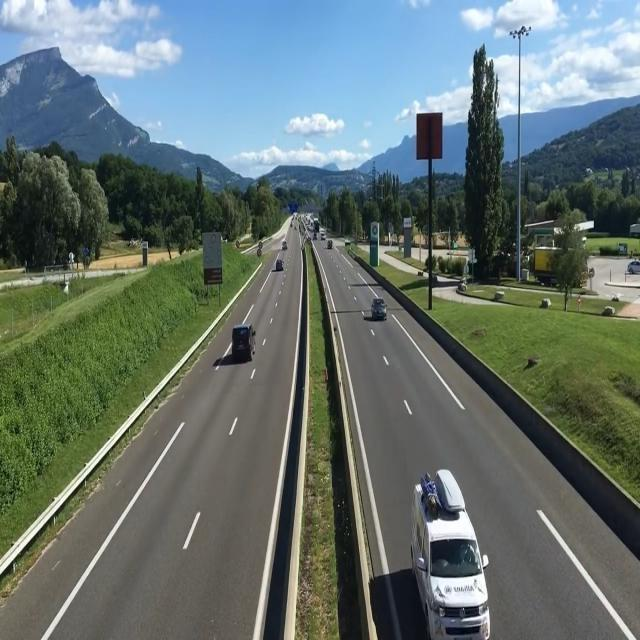Car: (372, 296, 388, 320), (275, 258, 284, 272)
Van: (412, 470, 490, 640), (230, 323, 256, 361)
